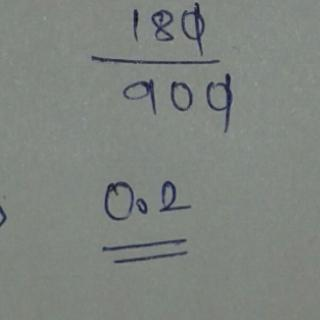.: (136, 196, 152, 219)
0: (94, 176, 136, 225), (167, 78, 195, 117)
1: (126, 2, 146, 48)
2: (157, 174, 197, 218)
8: (145, 2, 177, 44)
9: (115, 74, 164, 121)
